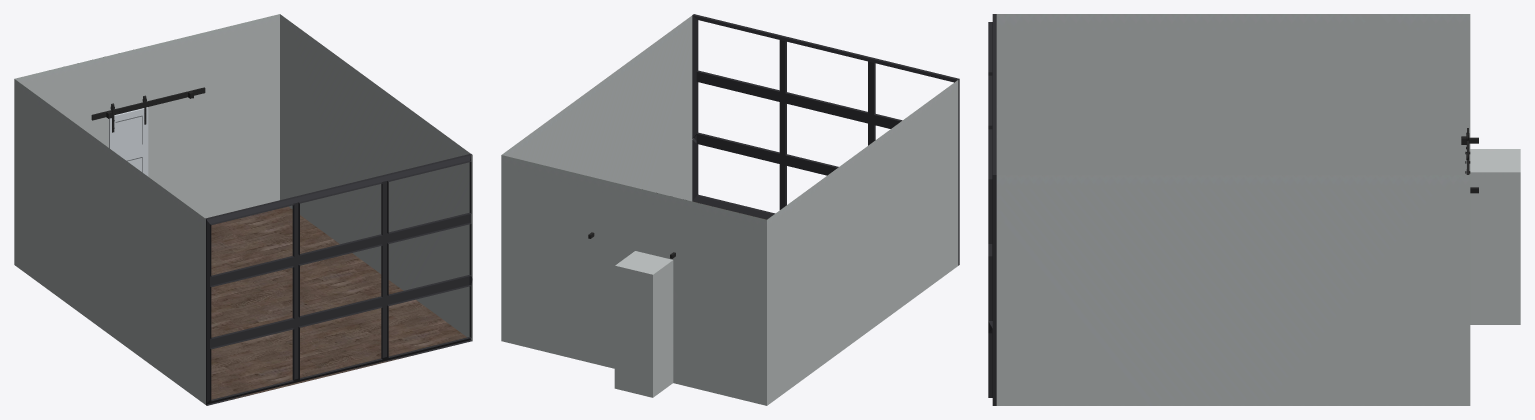
Rendered from vide.glb.
The picture shows the model from 3 angles, left to right: view 1: azimuth 30°, elevation 25°; view 2: azimuth 150°, elevation 25°; view 3: azimuth 270°, elevation 25°; orthographic projection. The views are drawn at different scales.
Parts seen in each view (by area): view 1: room; view 2: room; view 3: room.
Boxes of the visible parts, x1,y1,x2,y2 form: room: (14,14,472,405); room: (501,14,959,405); room: (988,14,1520,405).
Size of the model in its own units: 4.55 by 3.05 by 6.36.
6 materials, 2 textured.
